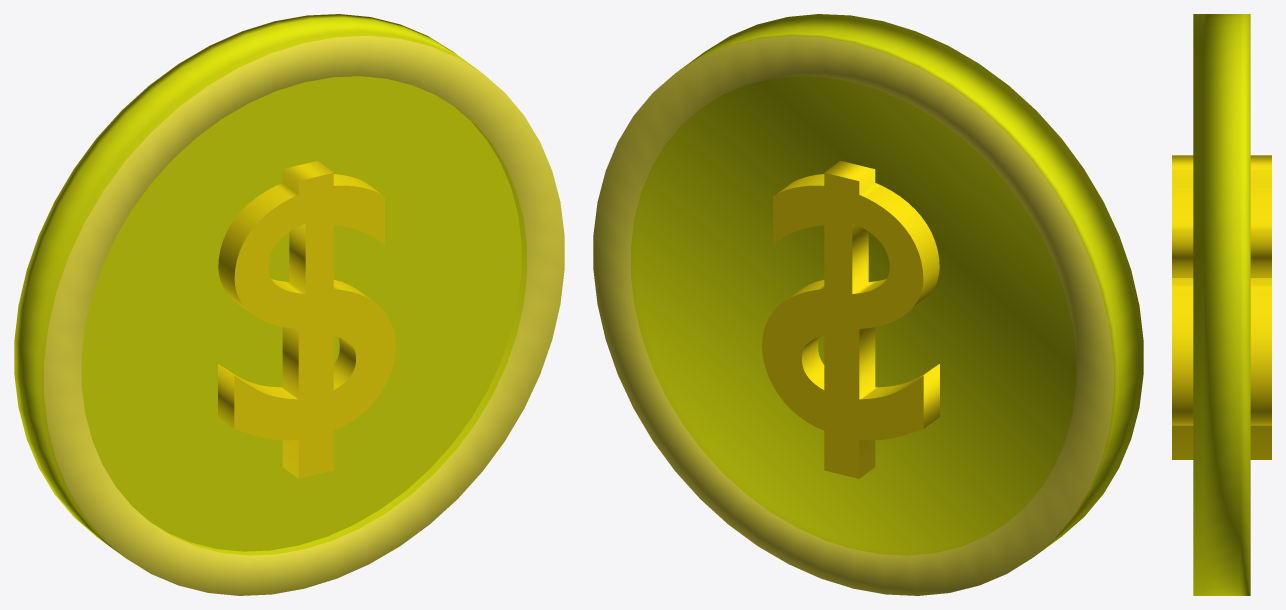
The model's file is coinv2.fbx.
The picture shows the model from 3 angles, left to right: view 1: azimuth 30°, elevation 25°; view 2: azimuth 150°, elevation 25°; view 3: azimuth 270°, elevation 25°; orthographic projection. The views are drawn at different scales.
Visible parts, largest first — view 1: Cylinder, Metin; view 2: Cylinder, Metin; view 3: Cylinder, Metin.
Boxes of the visible parts, bbox=[...] form: Cylinder: bbox=[14, 14, 564, 595]; Metin: bbox=[218, 161, 395, 478]; Cylinder: bbox=[593, 14, 1143, 595]; Metin: bbox=[762, 161, 939, 478]; Cylinder: bbox=[1193, 14, 1250, 595]; Metin: bbox=[1172, 155, 1271, 459].
Size of the model in its own units: 25.8 by 25.85 by 4.42.
